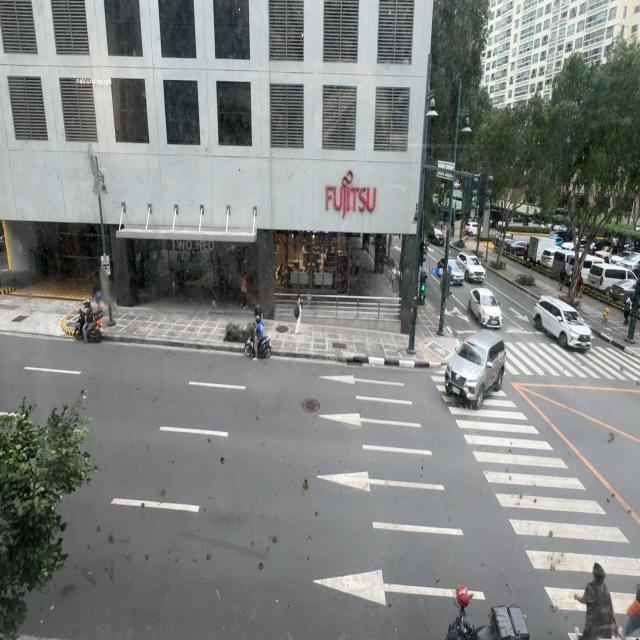crossing: (578, 549, 621, 638)
